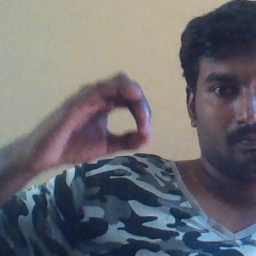O: (29, 70, 155, 171)
